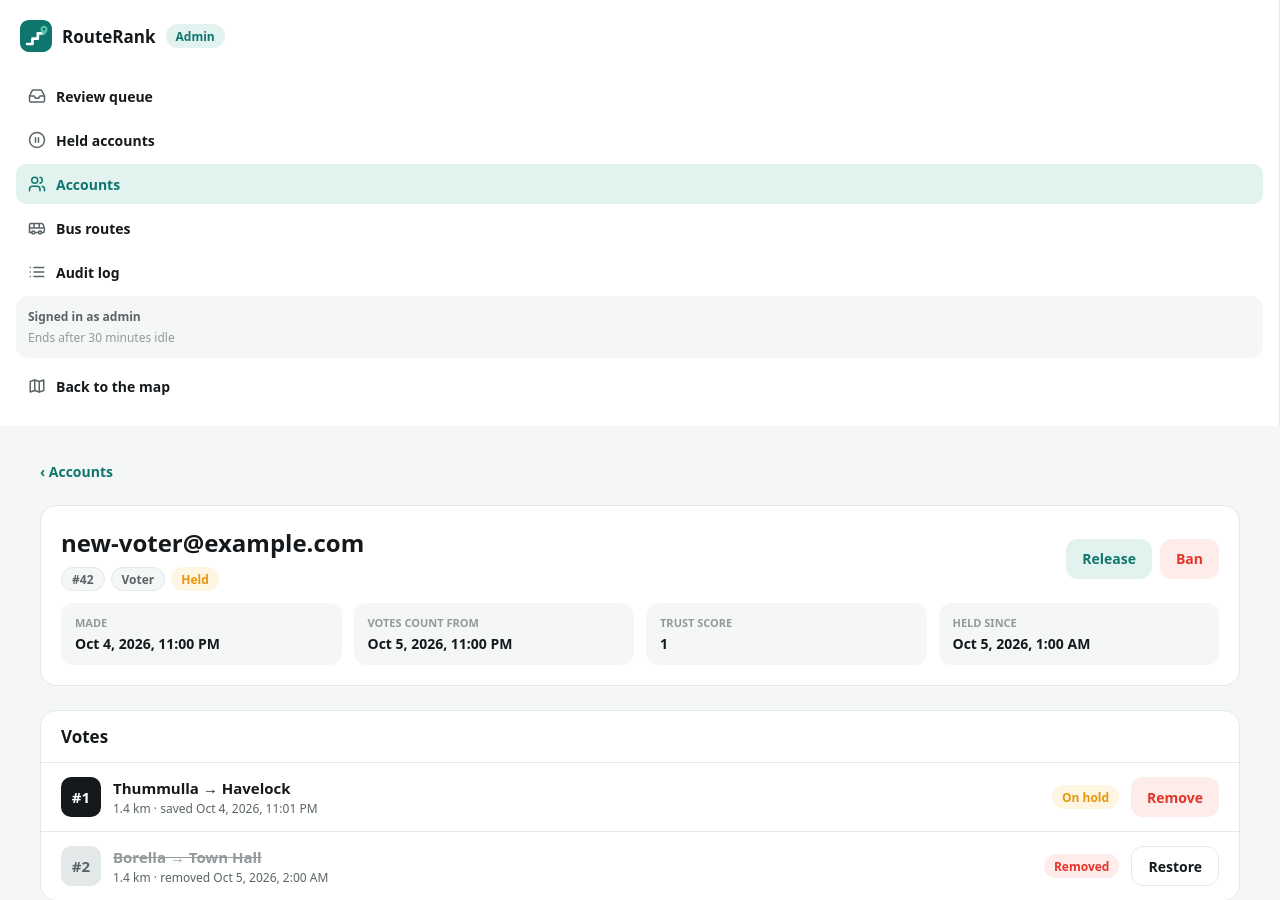
Test: the admin pages › says why a held account’s votes don’t count, and asks before removing one (A05)
The width and height of the screenshot is (1280, 900).
Check: the heading "new-voter@example.com" is shown, box left=61, top=526, right=364, bottom=559
Check: the text "On hold" is shown, box left=1052, top=785, right=1119, bottom=809
Step 1. Click the button "Remove" → (1175, 797), box left=1131, top=777, right=1219, bottom=817
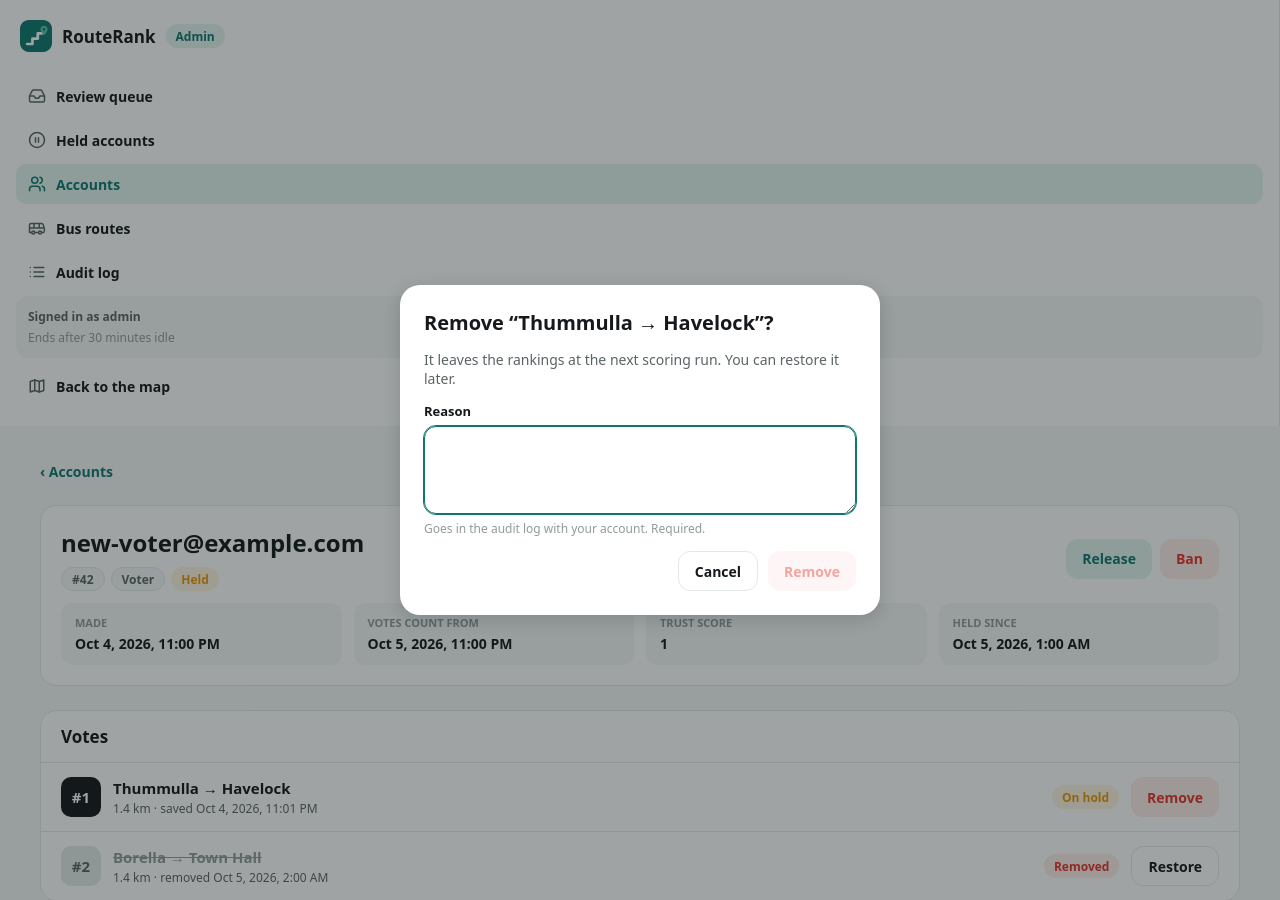
Check: the text "You can restore it later" is shown, box left=424, top=350, right=839, bottom=388
Step 2. Click the button "Cancel" → (718, 571), box left=678, top=551, right=758, bottom=591
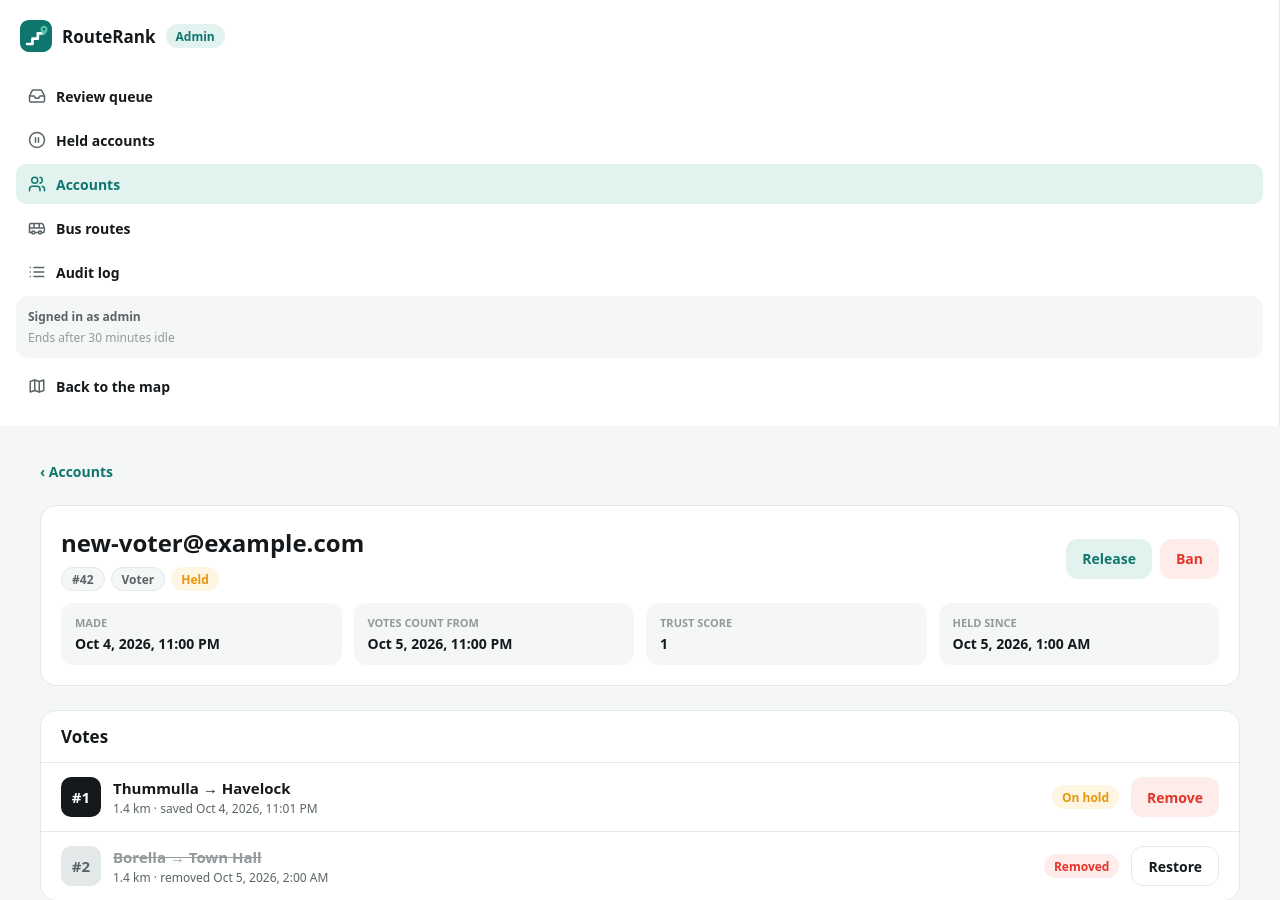
Check: the dialog is gone
